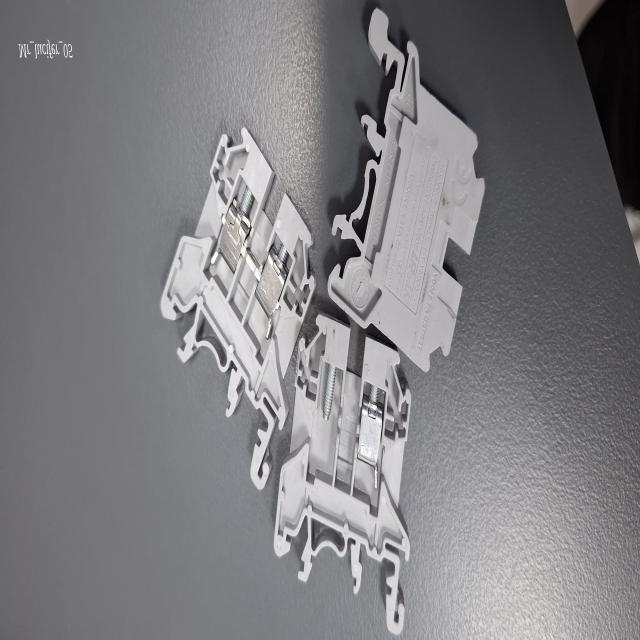Inverted: (324, 8, 484, 374)
Pass: (160, 132, 308, 494)
Reject: (283, 320, 414, 640)
